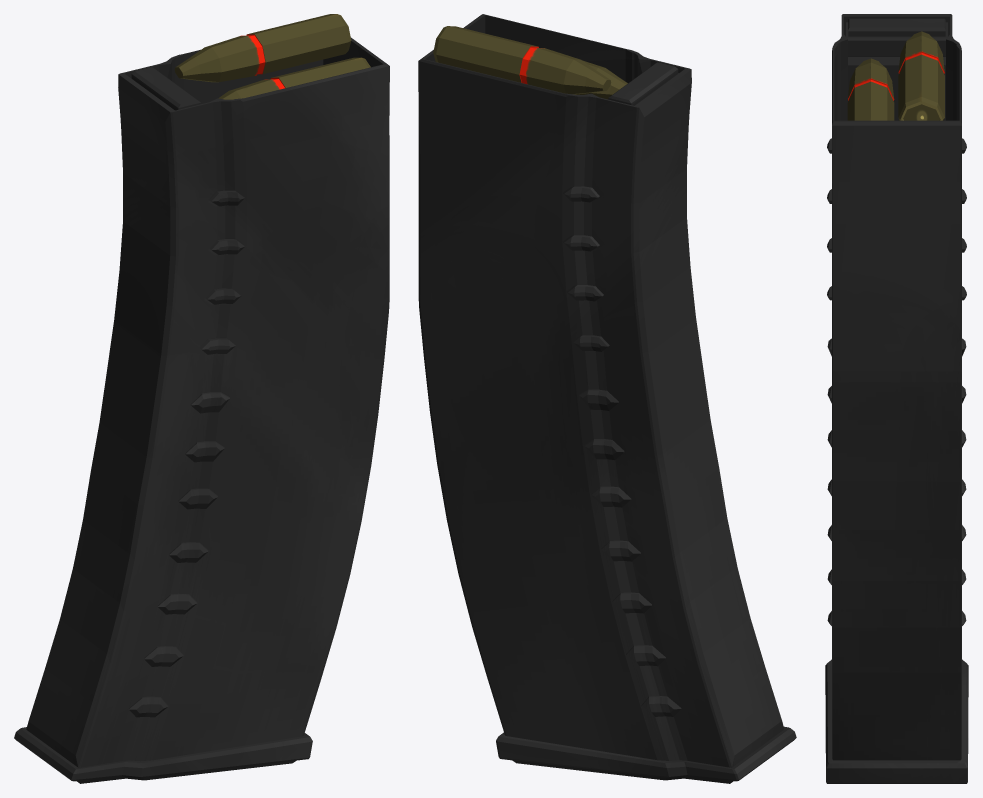
The model's file is MeduimCharge(AK)(Round).fbx.
3 renders of one model, left to right at view 1: azimuth 30°, elevation 25°; view 2: azimuth 150°, elevation 25°; view 3: azimuth 270°, elevation 25°, orthographic. The views are drawn at different scales.
Visible parts, largest first — view 1: MediumCharge(AK), Ammo(AK); view 2: MediumCharge(AK), Ammo(AK); view 3: MediumCharge(AK), Ammo(AK).
Boxes of the visible parts, x1,y1,x2,y2 form: MediumCharge(AK): [14, 37, 389, 783]; Ammo(AK): [174, 14, 370, 99]; MediumCharge(AK): [418, 14, 796, 783]; Ammo(AK): [433, 26, 627, 99]; MediumCharge(AK): [825, 14, 968, 783]; Ammo(AK): [847, 31, 944, 120].
Size of the model in its own units: 23.78 by 50.15 by 8.94.
